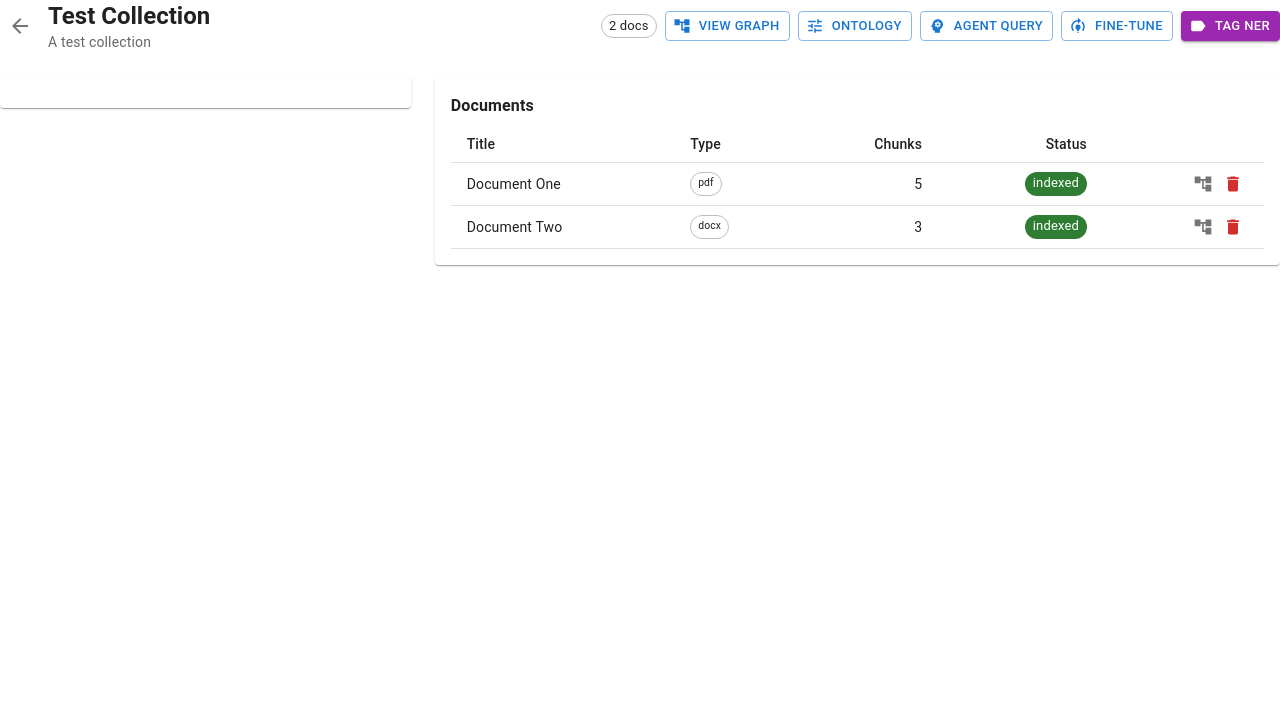
Test: Collection › closes dialog on Cancel without deleting
This screenshot has width=1280, height=720.
Expected: the text "Document One" is shown, [467, 176, 561, 192]
Step 1. Click the button named "delete document" in the row of "Document One" → (1233, 184), box [1218, 169, 1248, 199]
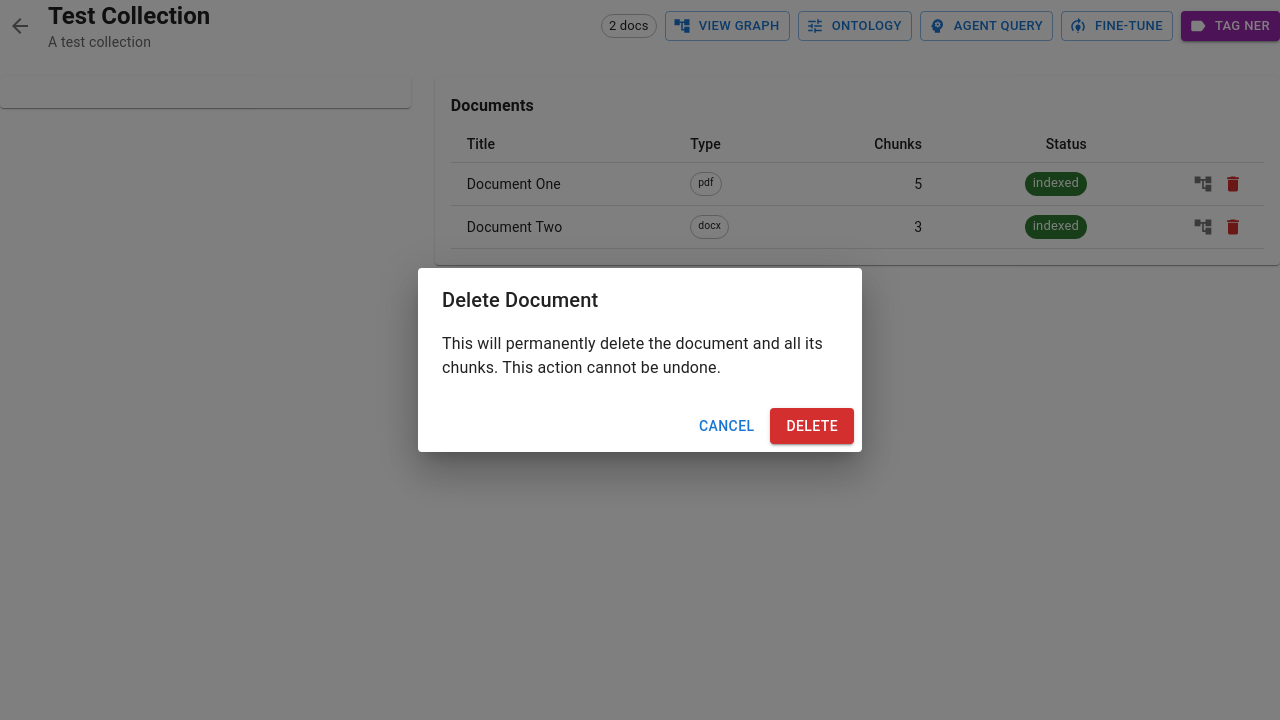
Expected: the heading "Delete Document" is shown, [442, 288, 598, 312]
Step 2. Click the button "Cancel" → (727, 426), box [691, 408, 762, 444]
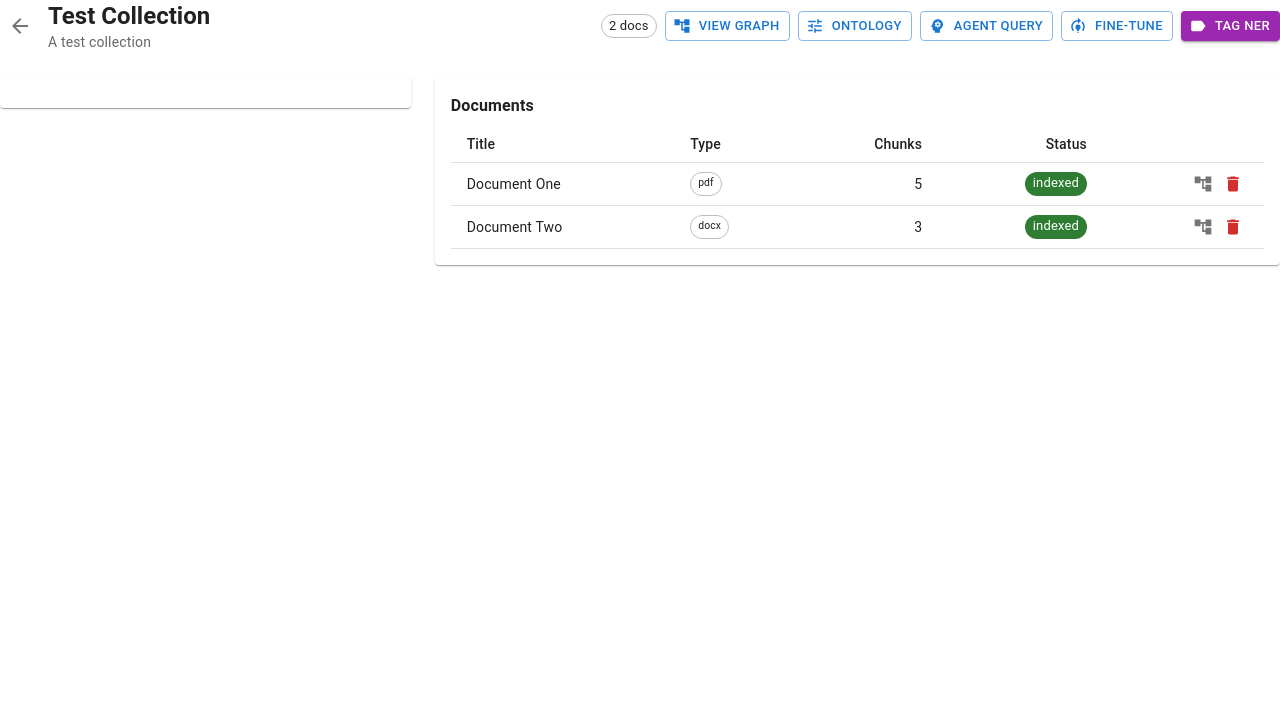
Expected: the heading "Delete Document" is gone
